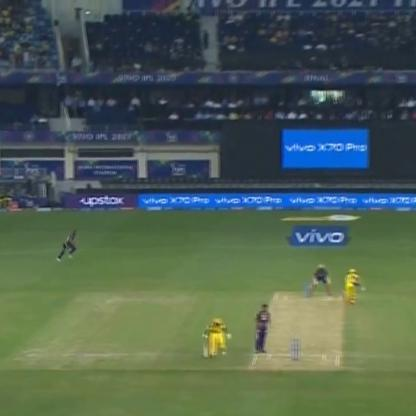pitch: (251, 290, 342, 368)
